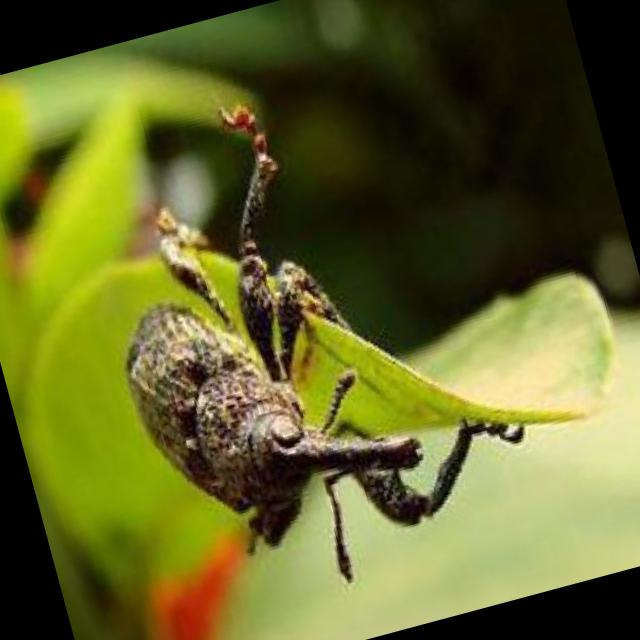rice-bug: (88, 174, 448, 626)
